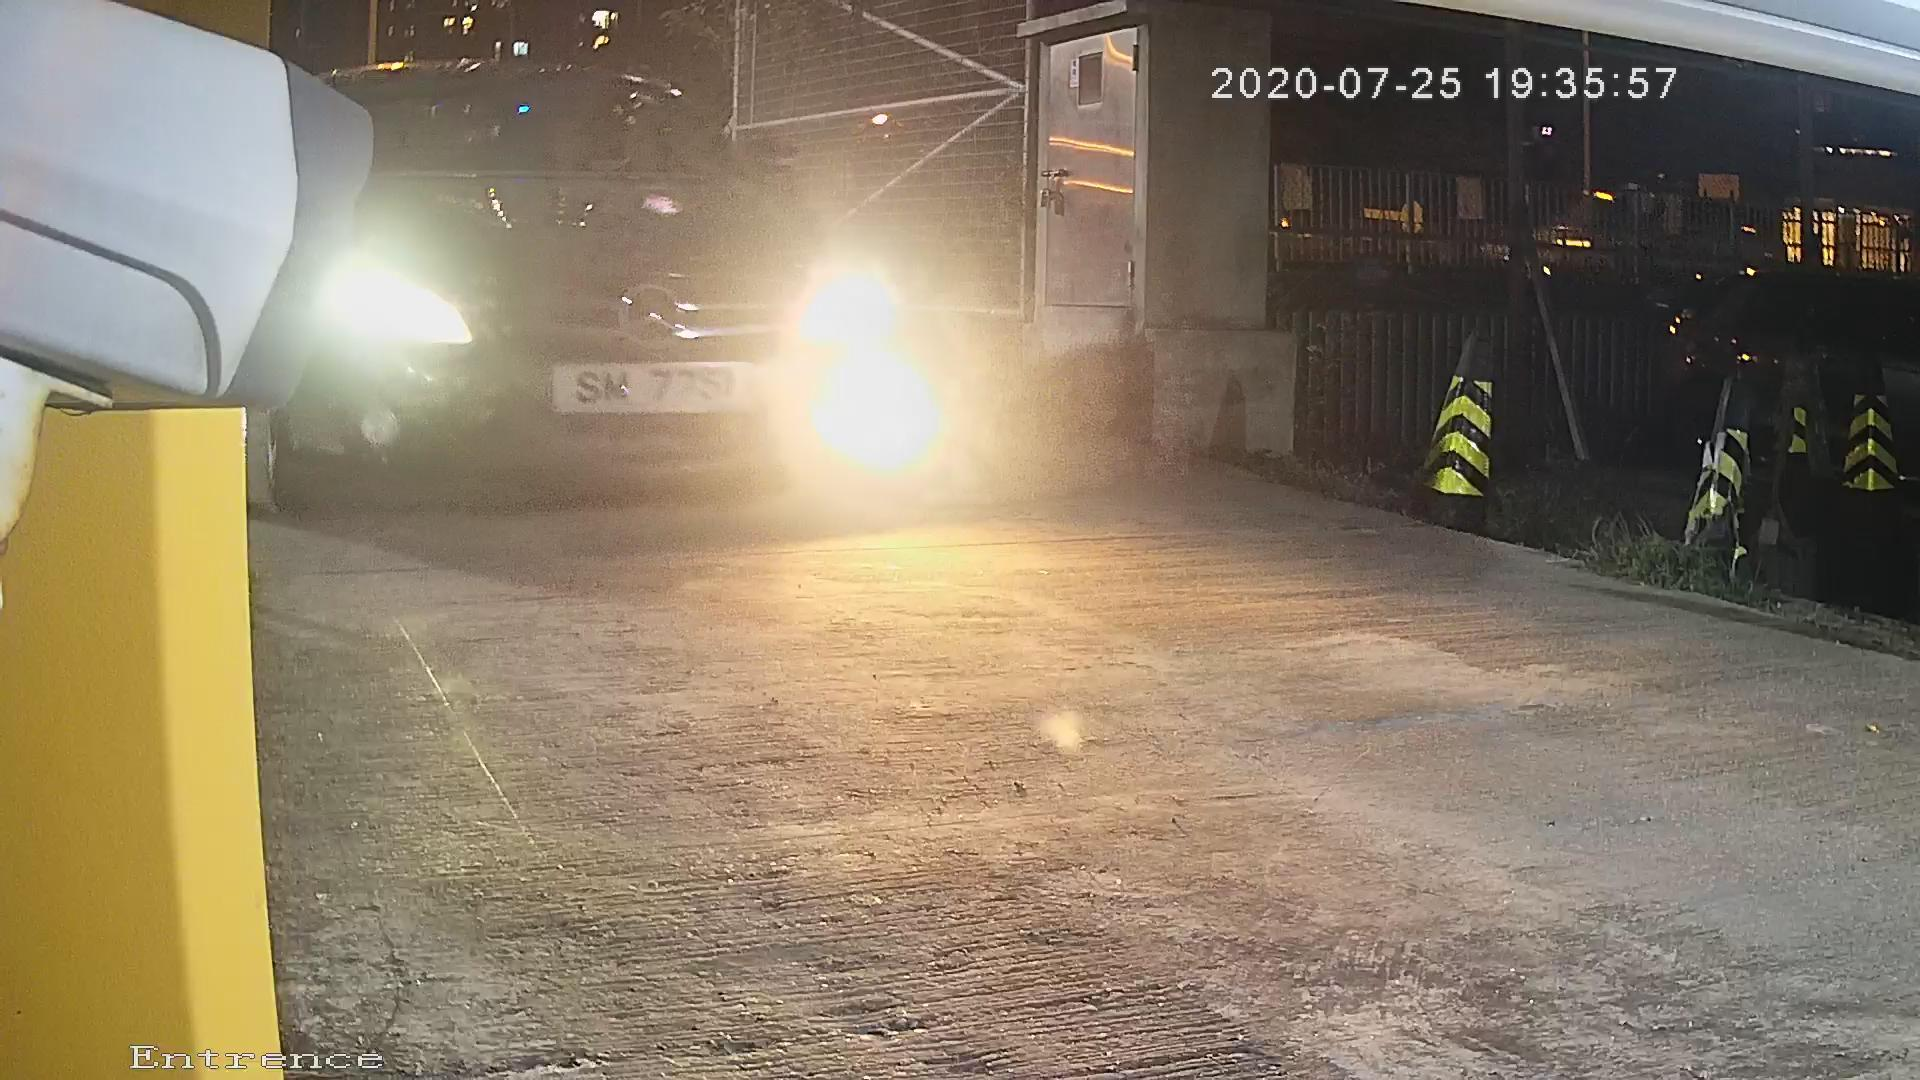privatecar: (215, 25, 815, 541)
